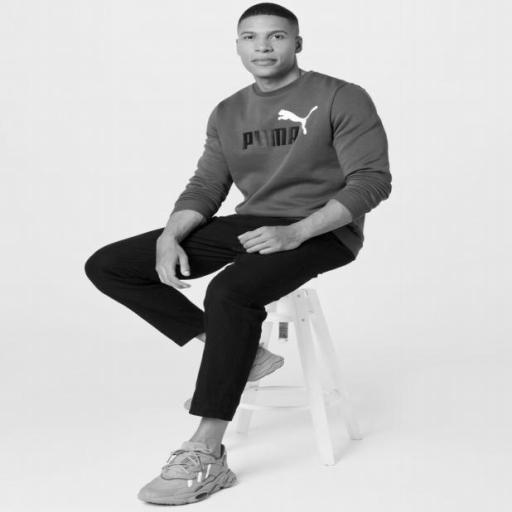Puma: (274, 103, 322, 137)
